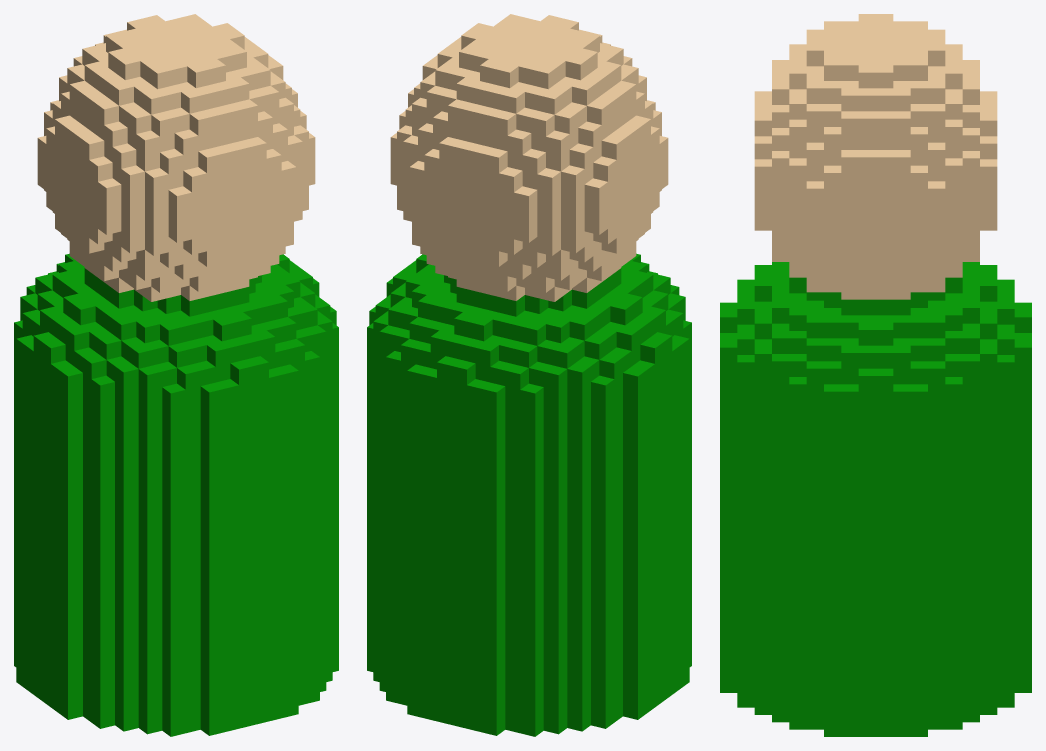
The model's file is Person_3.fbx.
The picture shows the model from 3 angles, left to right: view 1: azimuth 30°, elevation 25°; view 2: azimuth 150°, elevation 25°; view 3: azimuth 270°, elevation 25°; orthographic projection.
Visible parts, largest first — view 1: Person_3; view 2: Person_3; view 3: Person_3.
Part boxes in pixels (x1,y1,x2,y2): Person_3: (14,14,338,736); Person_3: (367,14,691,736); Person_3: (720,14,1031,736).
Bounding box in the file's own units: 18 × 40 × 18.
1 material, 1 textured.
